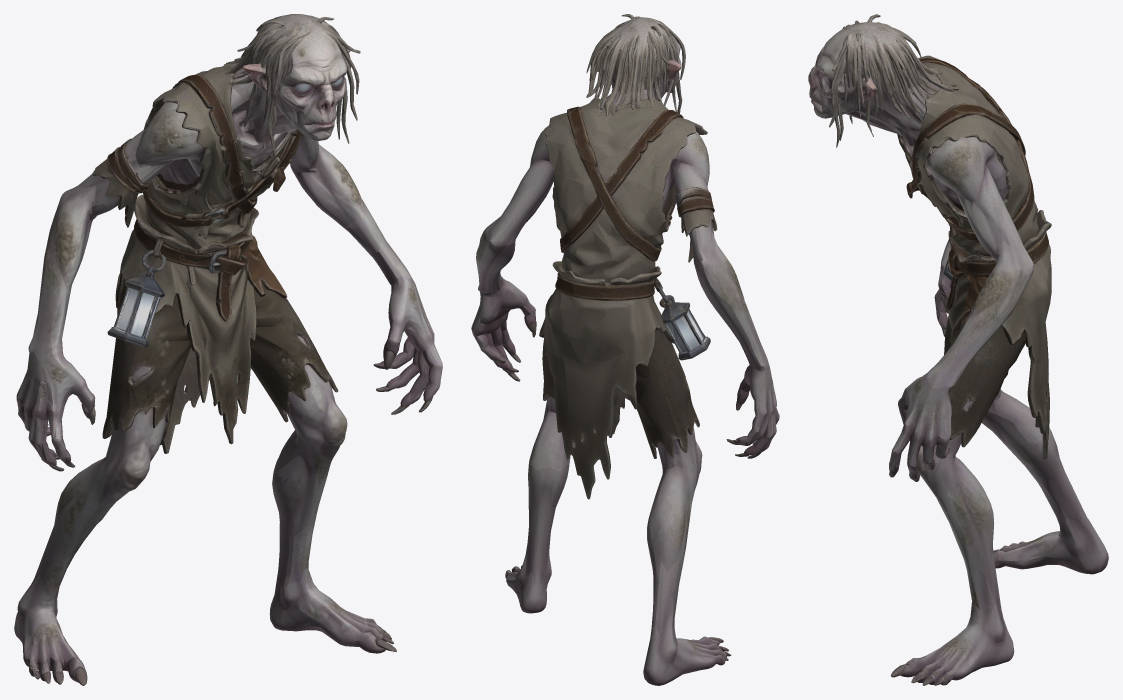
File: tunnel_skulker.glb
3 renders of one model, left to right at view 1: azimuth 30°, elevation 25°; view 2: azimuth 150°, elevation 25°; view 3: azimuth 270°, elevation 25°, orthographic. The views are drawn at different scales.
Visible parts, largest first — view 1: Mesh_0; view 2: Mesh_0; view 3: Mesh_0.
Part boxes in pixels (x1,y1,x2,y2): Mesh_0: (14,14,442,685); Mesh_0: (471,14,779,685); Mesh_0: (808,14,1108,685).
Bounding box in the file's own units: 1.12 × 1.9 × 0.8496.
Materials: 1 (1 with a texture image).
